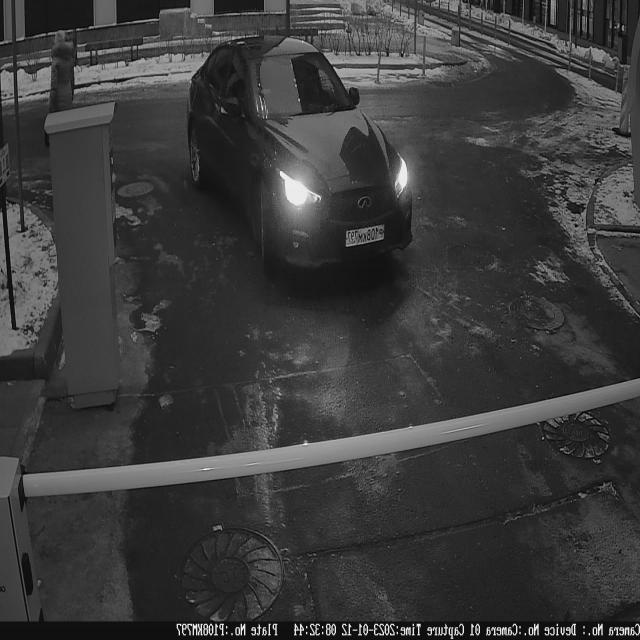car-plate-numbers: (345, 219, 389, 252)
